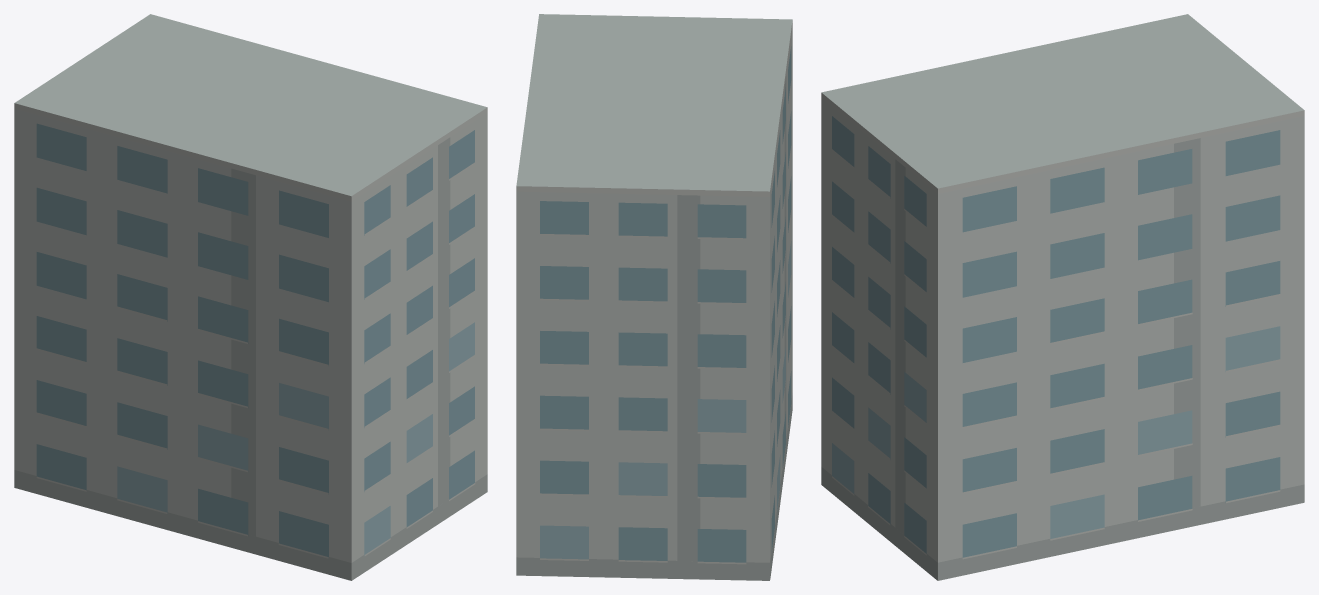
Rendered from survey-upis-32836676.glb.
The picture shows the model from 3 angles, left to right: view 1: azimuth 30°, elevation 25°; view 2: azimuth 150°, elevation 25°; view 3: azimuth 270°, elevation 25°; orthographic projection.
Visible parts, largest first — view 1: survey-upis-32836676.tmp; view 2: survey-upis-32836676.tmp; view 3: survey-upis-32836676.tmp.
Part boxes in pixels (bbox=[...]): survey-upis-32836676.tmp: bbox=[14, 14, 487, 580]; survey-upis-32836676.tmp: bbox=[516, 14, 792, 580]; survey-upis-32836676.tmp: bbox=[821, 14, 1304, 580].
Size of the model in its own units: 16.42 by 17.2 by 19.22.
